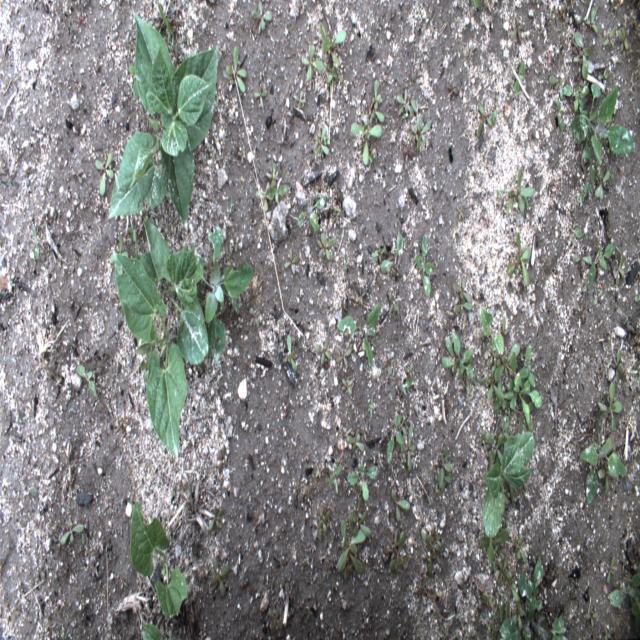crop: (107, 11, 219, 224), (115, 254, 187, 460), (136, 219, 208, 365), (130, 501, 187, 619), (481, 432, 535, 538), (480, 306, 504, 354), (142, 623, 164, 639)
weed: (188, 224, 254, 366), (567, 83, 637, 177), (499, 555, 568, 639), (580, 435, 628, 507), (338, 302, 382, 366), (605, 562, 640, 630), (349, 113, 384, 166), (494, 343, 530, 394), (337, 520, 366, 576), (513, 373, 543, 424), (586, 241, 617, 290), (317, 19, 347, 67), (597, 381, 624, 434), (297, 187, 327, 234), (506, 231, 531, 287), (416, 233, 436, 297), (452, 328, 477, 379), (347, 460, 378, 501), (225, 45, 248, 93), (379, 233, 404, 275), (481, 528, 510, 564), (479, 366, 505, 404), (386, 413, 405, 464), (209, 557, 231, 598), (510, 400, 535, 436), (488, 600, 510, 640), (152, 0, 171, 46), (440, 337, 464, 373), (574, 31, 592, 79), (302, 44, 324, 83), (95, 150, 114, 195), (420, 523, 446, 555), (390, 531, 409, 574), (562, 83, 589, 113), (518, 342, 536, 387), (399, 425, 416, 471), (517, 166, 534, 212), (75, 363, 97, 397), (60, 518, 86, 546), (474, 101, 494, 137), (577, 164, 595, 204), (283, 330, 299, 372), (486, 430, 504, 467), (438, 443, 452, 489), (252, 1, 272, 32), (109, 233, 128, 265), (316, 231, 337, 259), (594, 166, 611, 200), (392, 488, 410, 520), (395, 88, 414, 118), (314, 126, 330, 160), (315, 337, 332, 369), (384, 527, 401, 559), (583, 0, 599, 34), (416, 118, 431, 153), (496, 556, 512, 588), (511, 596, 526, 630), (493, 382, 508, 416), (264, 183, 289, 203), (346, 428, 366, 453), (453, 276, 472, 302), (509, 12, 524, 44), (598, 468, 619, 490), (352, 513, 370, 538), (410, 96, 424, 128), (504, 188, 519, 217), (256, 181, 270, 211), (328, 466, 343, 494), (283, 248, 299, 274), (548, 74, 564, 100), (348, 495, 362, 524), (554, 98, 566, 131), (254, 82, 268, 110), (505, 575, 519, 603), (208, 506, 223, 532), (457, 370, 472, 396), (514, 537, 529, 563), (370, 100, 385, 125), (371, 78, 383, 109), (451, 274, 462, 307), (453, 299, 472, 318), (334, 344, 352, 364), (615, 253, 626, 285), (515, 60, 525, 95), (268, 607, 282, 632), (426, 549, 438, 578), (223, 68, 242, 86), (435, 474, 453, 493), (602, 24, 616, 48), (320, 505, 332, 532), (617, 26, 629, 53), (444, 80, 460, 100), (572, 252, 592, 268), (499, 418, 511, 444), (266, 162, 277, 190), (248, 306, 262, 328), (217, 444, 229, 469), (388, 292, 400, 317), (381, 356, 396, 376), (503, 390, 518, 410), (32, 226, 40, 261), (606, 555, 616, 583), (398, 377, 413, 395), (597, 68, 610, 88), (370, 245, 386, 261), (294, 89, 306, 110), (312, 517, 323, 539), (616, 348, 622, 387), (485, 348, 498, 366), (478, 430, 488, 453), (71, 168, 84, 185), (161, 9, 172, 29), (326, 64, 337, 84), (343, 562, 355, 580), (480, 593, 498, 605), (176, 39, 187, 58), (501, 401, 512, 420), (341, 378, 354, 394), (585, 612, 598, 628), (593, 284, 603, 304), (368, 394, 376, 418), (495, 543, 507, 559), (403, 143, 413, 162), (126, 225, 137, 242), (357, 287, 366, 306), (404, 361, 413, 380), (331, 206, 341, 223), (570, 227, 584, 239), (497, 189, 511, 201), (167, 32, 175, 52), (315, 464, 325, 480), (400, 416, 408, 436), (502, 316, 510, 336), (238, 145, 245, 164), (412, 122, 419, 141), (456, 204, 464, 220), (466, 46, 474, 62), (502, 488, 509, 506), (133, 80, 139, 100), (367, 144, 373, 164), (434, 530, 442, 545), (522, 598, 530, 613), (490, 110, 498, 124), (298, 0, 308, 11), (386, 266, 396, 277), (609, 627, 618, 639), (59, 630, 69, 640), (574, 54, 584, 64), (572, 236, 577, 256), (358, 138, 365, 151), (342, 426, 353, 434), (324, 136, 332, 146), (600, 632, 611, 639), (128, 66, 135, 76), (412, 68, 417, 82), (279, 320, 282, 342), (222, 281, 224, 310), (472, 0, 480, 7), (482, 335, 484, 349)
